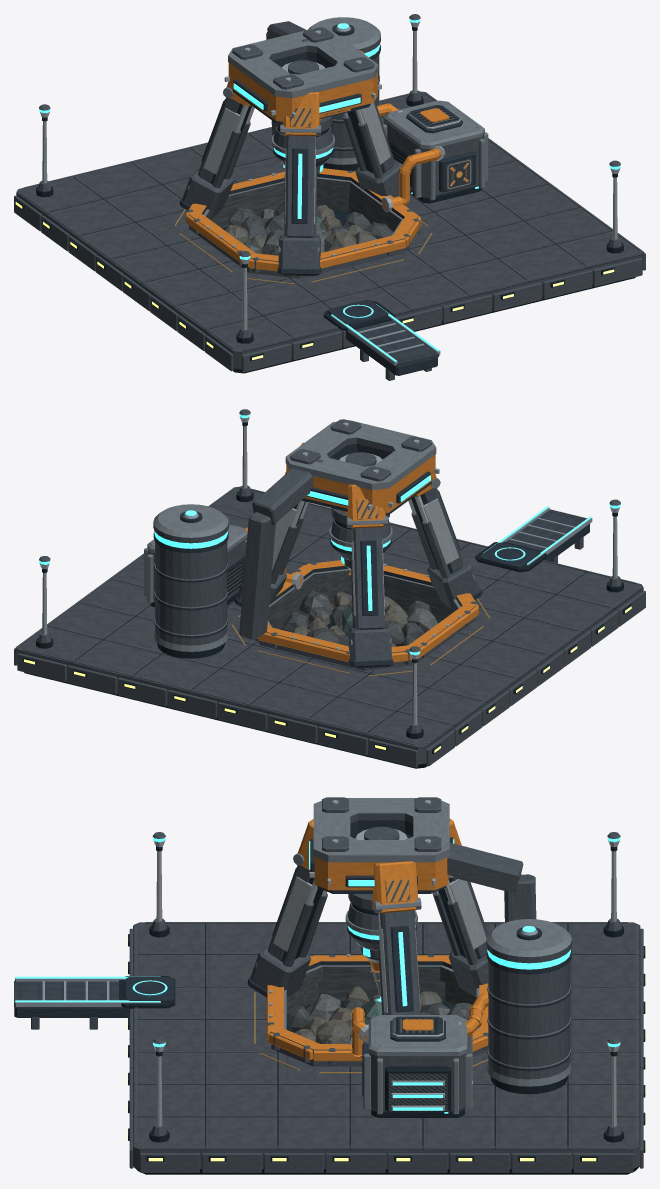
Rendered from EX02_ExtractorProcesador.fbx.
3 views of the same model, one above another, from view 1: azimuth 30°, elevation 25°; view 2: azimuth 150°, elevation 25°; view 3: azimuth 270°, elevation 25° (orthographic). The views are drawn at different scales.
Visible parts, largest first — view 1: Estructura_2, Broca_2; view 2: Estructura_2, Broca_2; view 3: Estructura_2, Broca_2.
Boxes of the visible parts, x1,y1,x2,y2 form: Estructura_2: (14, 14, 645, 380); Broca_2: (271, 126, 334, 174); Estructura_2: (14, 409, 645, 768); Broca_2: (329, 518, 392, 575); Estructura_2: (14, 797, 645, 1174); Broca_2: (345, 902, 417, 1000).
Size of the model in its own units: 7.71 by 3.5 by 8.87.
